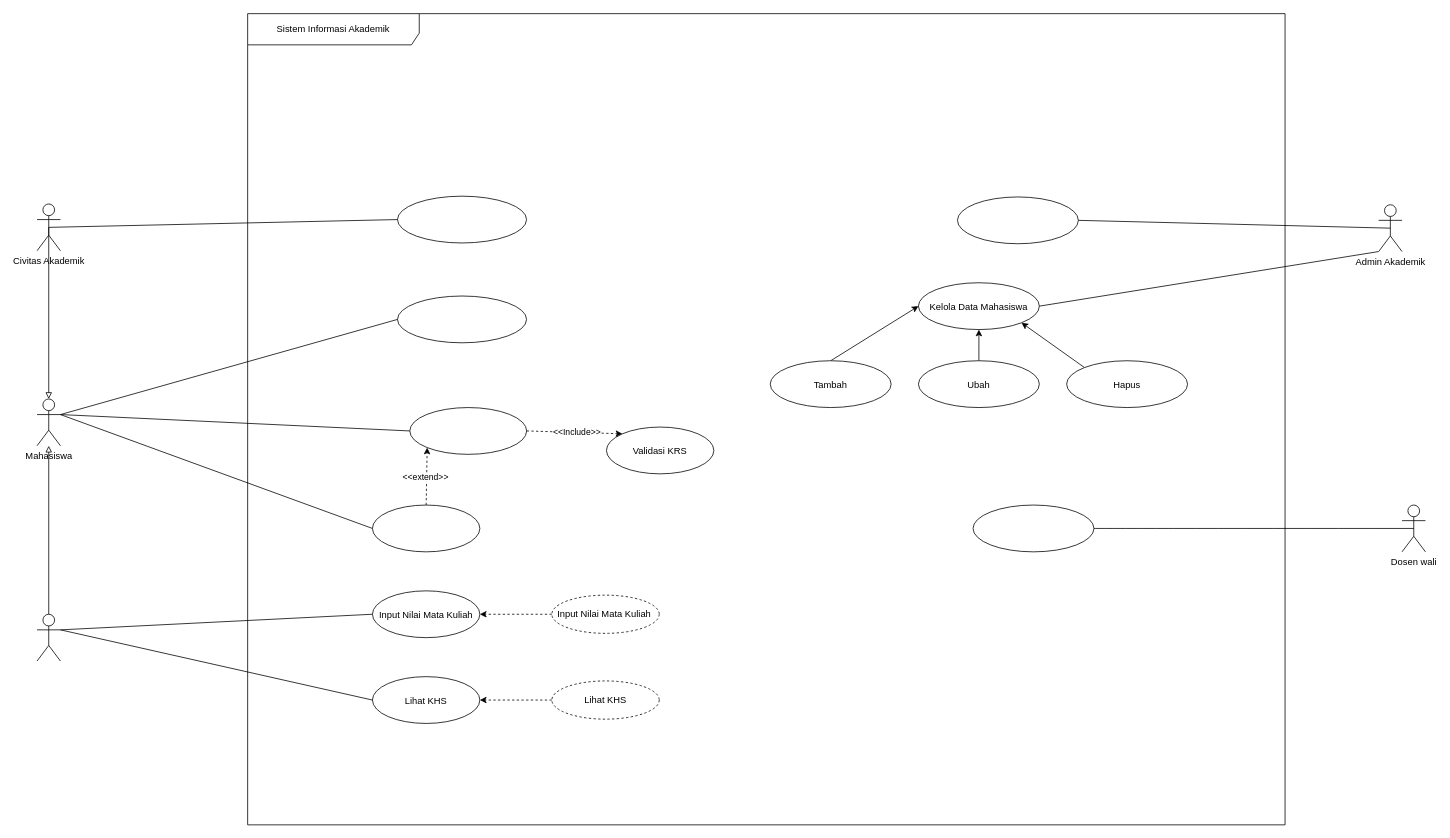
The diagram is 1450 pixels wide and 838 high, and some of its shapes have lost their labels. Here are the shapes that lost their labels. From the top down, the centre of each, then its label:
point 462,219: Lihat Kalender akademik
point 1017,220: Kelola Jadwal Kuliah
point 462,319: Lihat Jadwal Kuliah
point 468,430: Ajukan KRS
point 426,528: Unduh Bukti Pengajuan KRS
point 1033,528: Proses Kebutuhan KRS
point 48,637: Dosen
